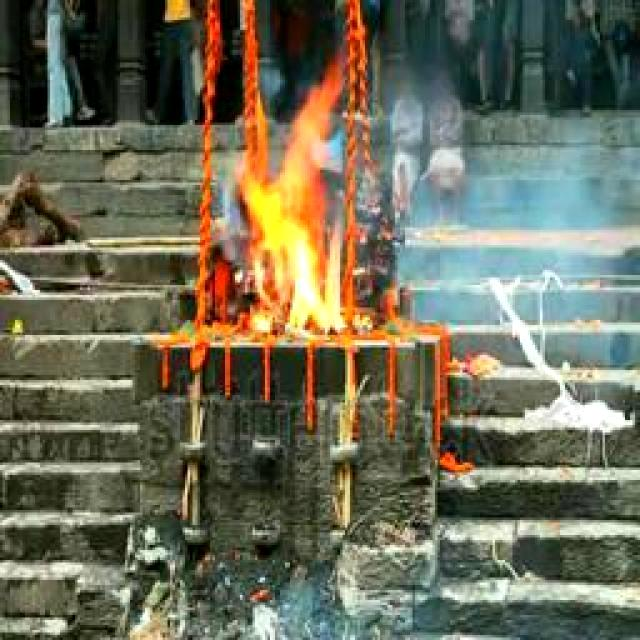fire: (235, 102, 358, 334)
